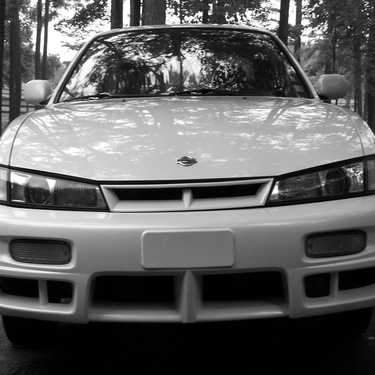car: (1, 17, 374, 355)
